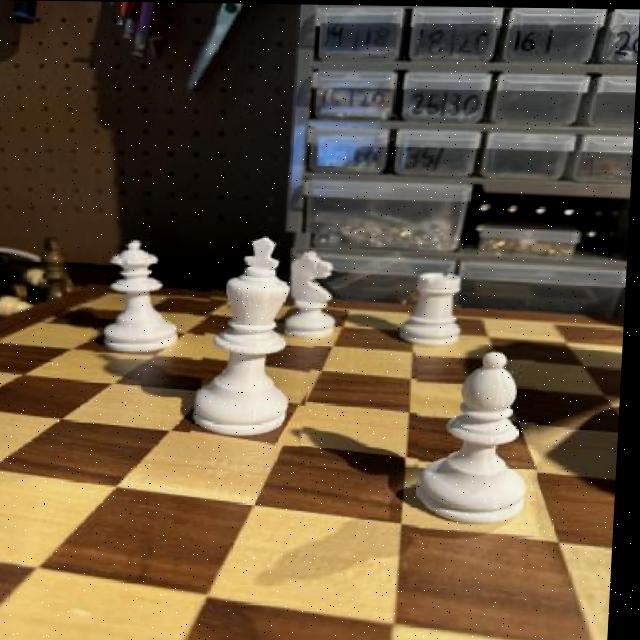black-rook: (415, 347, 548, 539)
white-bishop: (199, 227, 329, 444)
white-king: (291, 245, 344, 339)
white-pawn: (93, 242, 202, 360)
white-queen: (405, 268, 476, 350)
